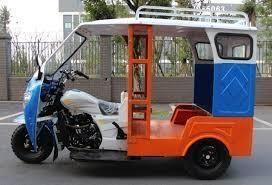keke: (2, 15, 260, 182)
